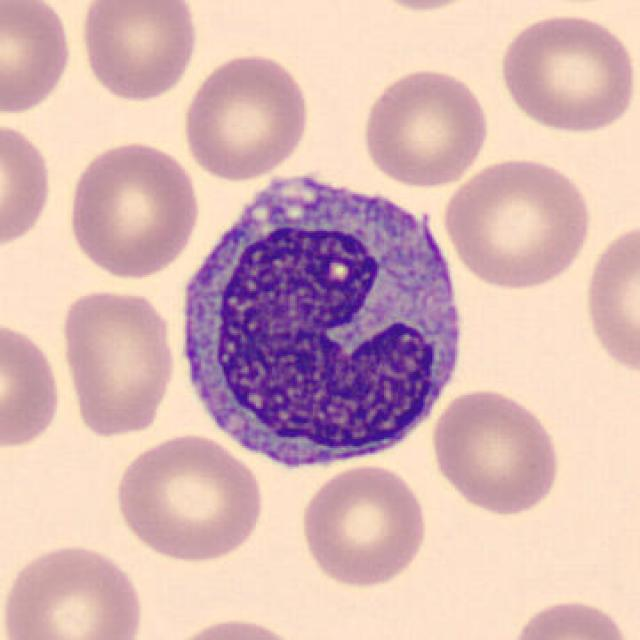Monocyte: (167, 157, 475, 479)
RBC: (439, 153, 596, 291), (110, 430, 267, 564), (64, 136, 203, 282), (57, 284, 179, 439), (178, 50, 313, 184), (428, 384, 564, 516), (295, 460, 432, 591), (494, 10, 636, 136), (358, 64, 492, 188), (0, 537, 149, 640), (76, 0, 201, 104), (580, 217, 638, 379), (0, 316, 66, 453), (0, 0, 75, 118), (0, 116, 55, 256), (505, 594, 635, 640), (159, 613, 309, 640), (357, 0, 491, 14)
